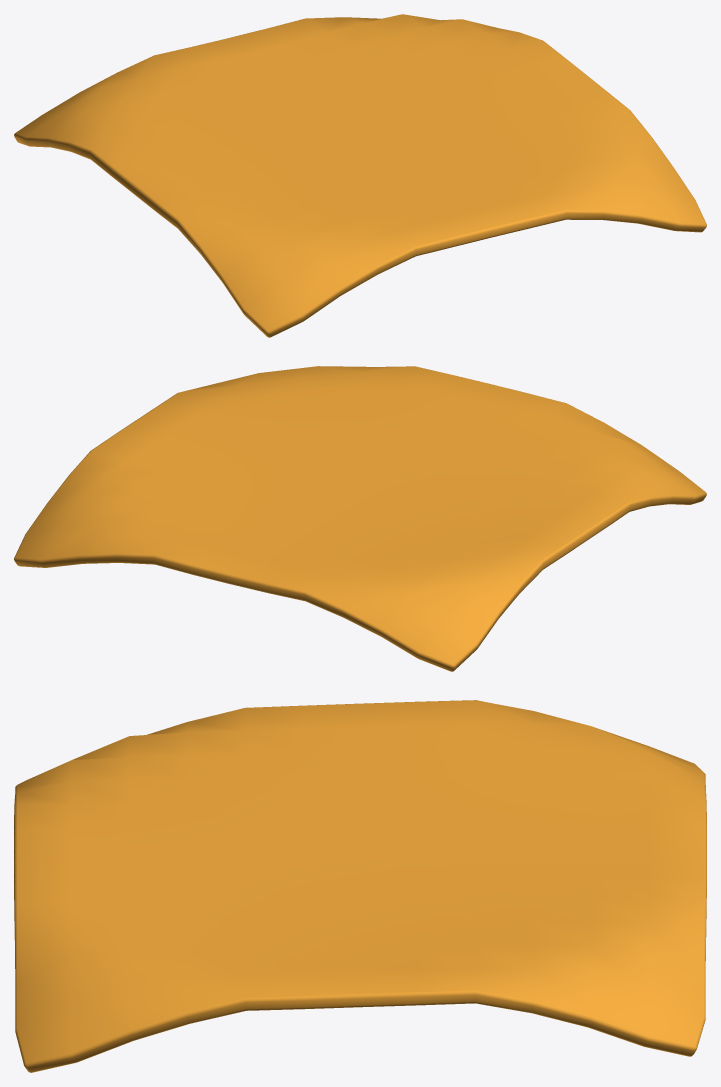
File: cheese_draped.glb
3 views of the same model, one above another, from view 1: azimuth 30°, elevation 25°; view 2: azimuth 150°, elevation 25°; view 3: azimuth 270°, elevation 25° (orthographic). The views are drawn at different scales.
Parts seen in each view (by area): view 1: cheese_draped; view 2: cheese_draped; view 3: cheese_draped.
Boxes of the visible parts, x1=… form: cheese_draped: x1=14, y1=14, x2=706, y2=337; cheese_draped: x1=14, y1=366, x2=706, y2=671; cheese_draped: x1=14, y1=700, x2=706, y2=1072.
Size of the model in its own units: 0.1081 by 0.0151 by 0.108.
